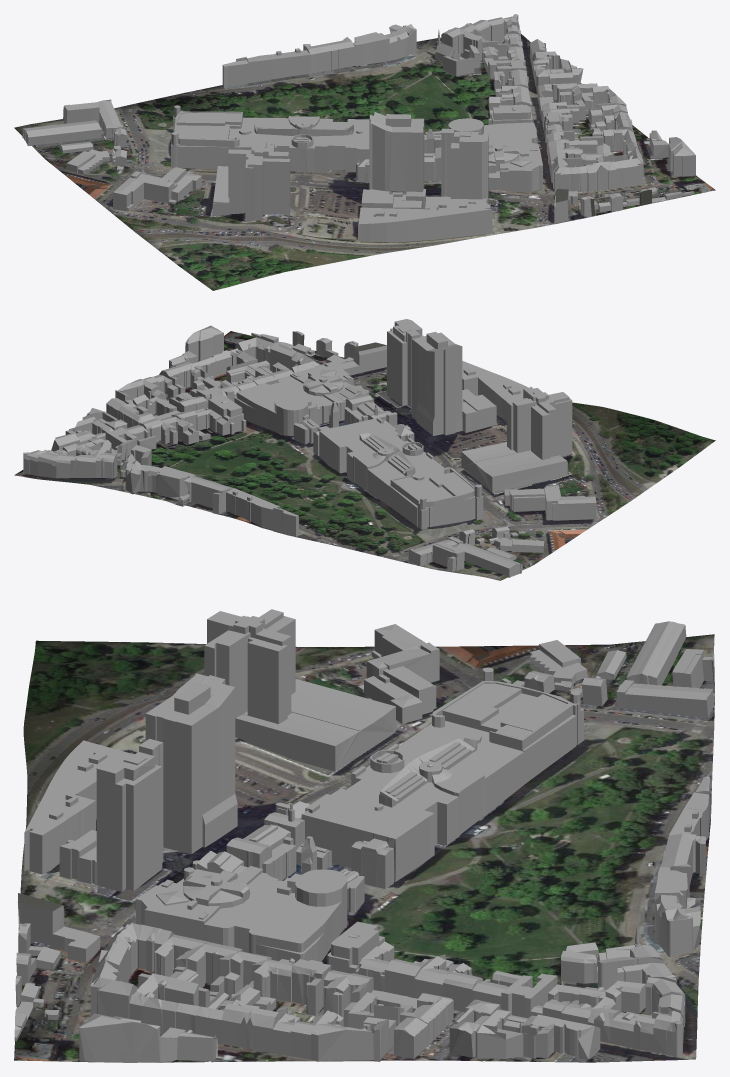
Rendered from Stary_browar.glb.
3 views of the same model, one above another, from view 1: azimuth 30°, elevation 25°; view 2: azimuth 150°, elevation 25°; view 3: azimuth 270°, elevation 25° (orthographic). The views are drawn at different scales.
Parts seen in each view (by area): view 1: export_1; view 2: export_1; view 3: export_1.
Part boxes in pixels (box(x1,y1,x2,y2)): export_1: box(14, 14, 715, 290); export_1: box(14, 319, 715, 580); export_1: box(14, 609, 714, 1062).
Bounding box in the file's own units: 548 × 102 × 404.
2 materials, 1 textured.
